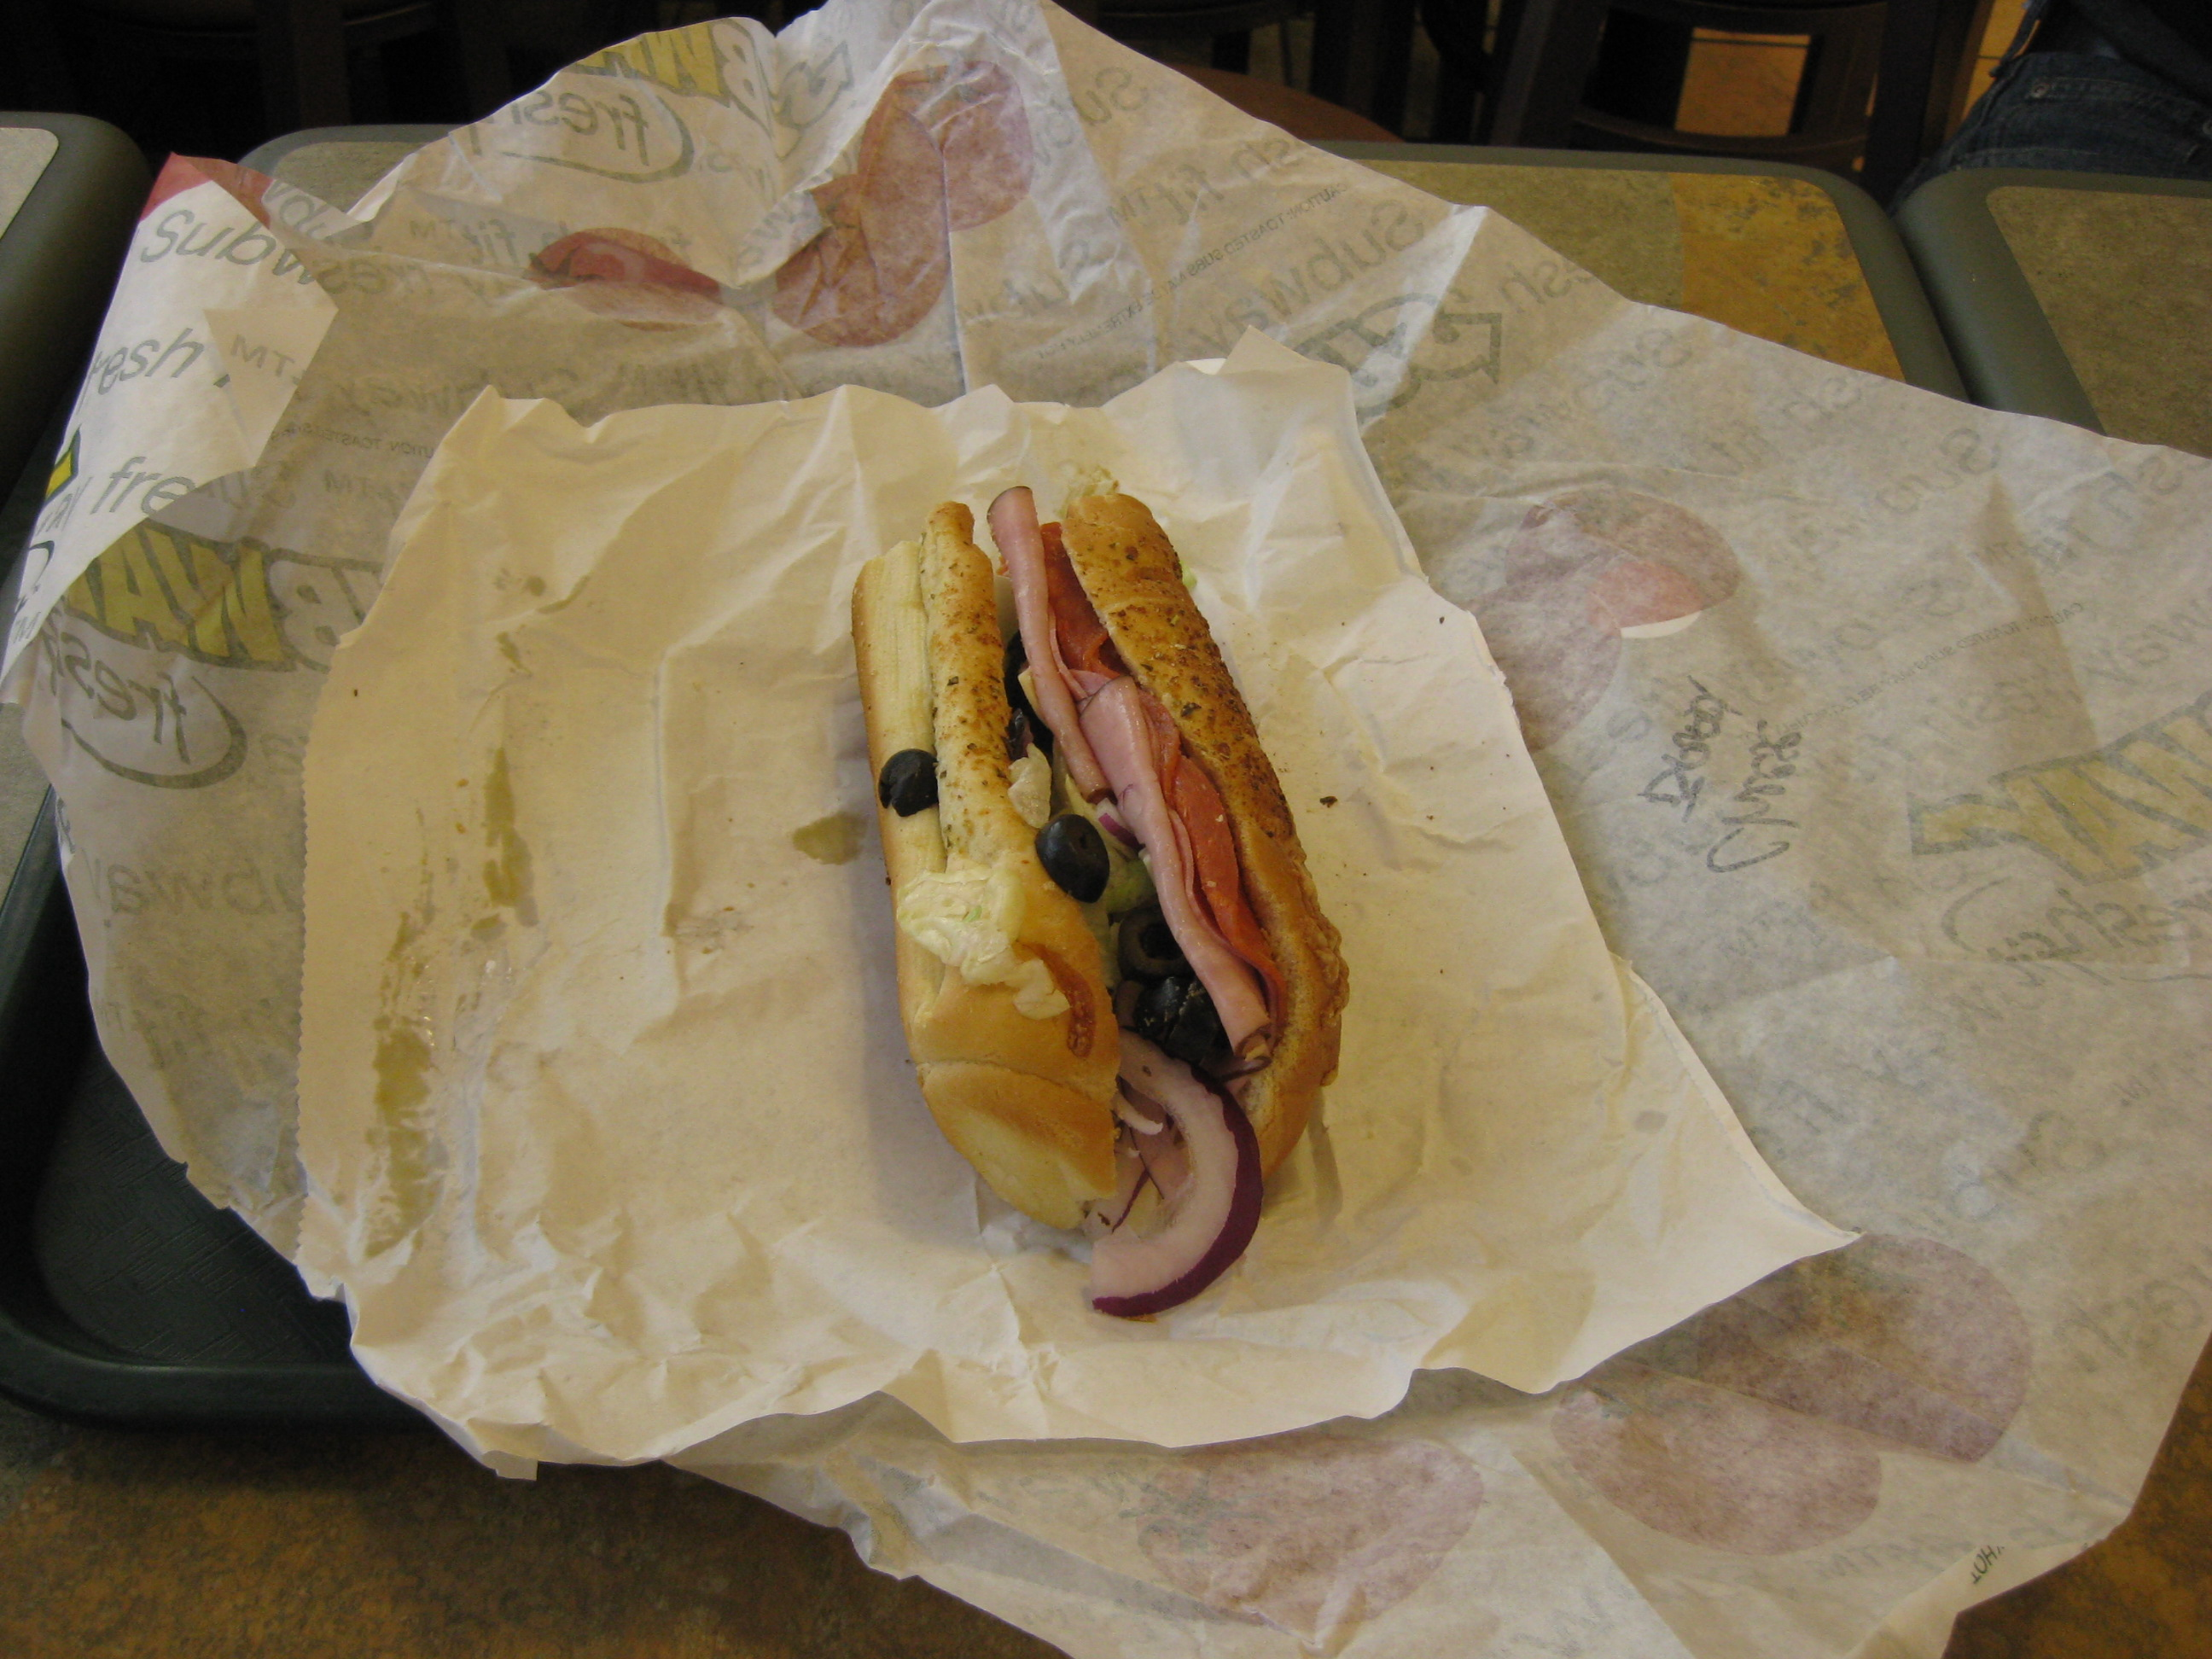sub: (829, 498, 1375, 1234)
